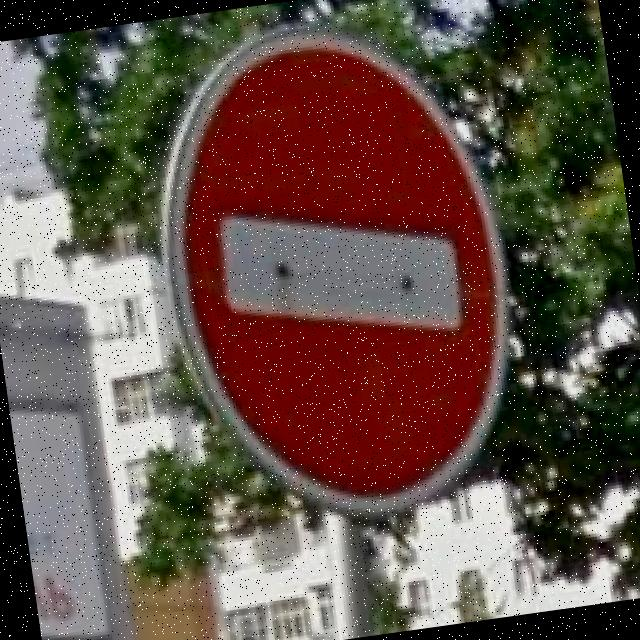Zakaz wjazdu: (132, 0, 538, 543)
